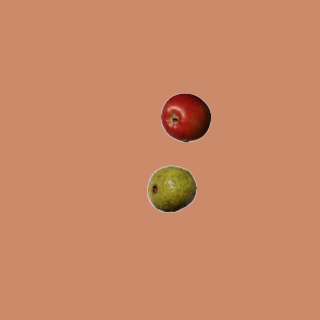Apple Braeburn: (160, 92, 210, 142)
Guava: (146, 163, 196, 213)
